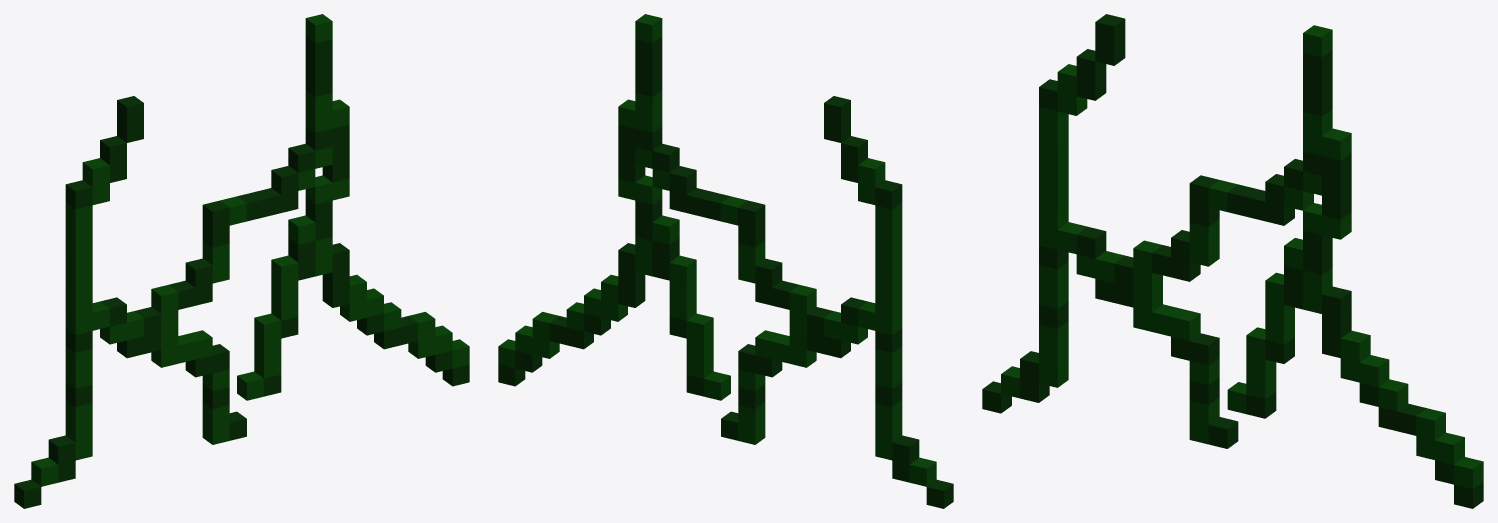
The model's file is Pods_1.glb.
3 views of the same model, side by side, from view 1: azimuth 30°, elevation 25°; view 2: azimuth 150°, elevation 25°; view 3: azimuth 330°, elevation 25° (orthographic). The views are drawn at different scales.
Parts seen in each view (by area): view 1: Pods_1; view 2: Pods_1; view 3: Pods_1.
Boxes of the visible parts, x1,y1,x2,y2 form: Pods_1: (14,14,469,508); Pods_1: (498,14,953,508); Pods_1: (982,14,1483,508).
Bounding box in the file's own units: 2.6 × 2.3 × 0.1.
1 material, 1 textured.
